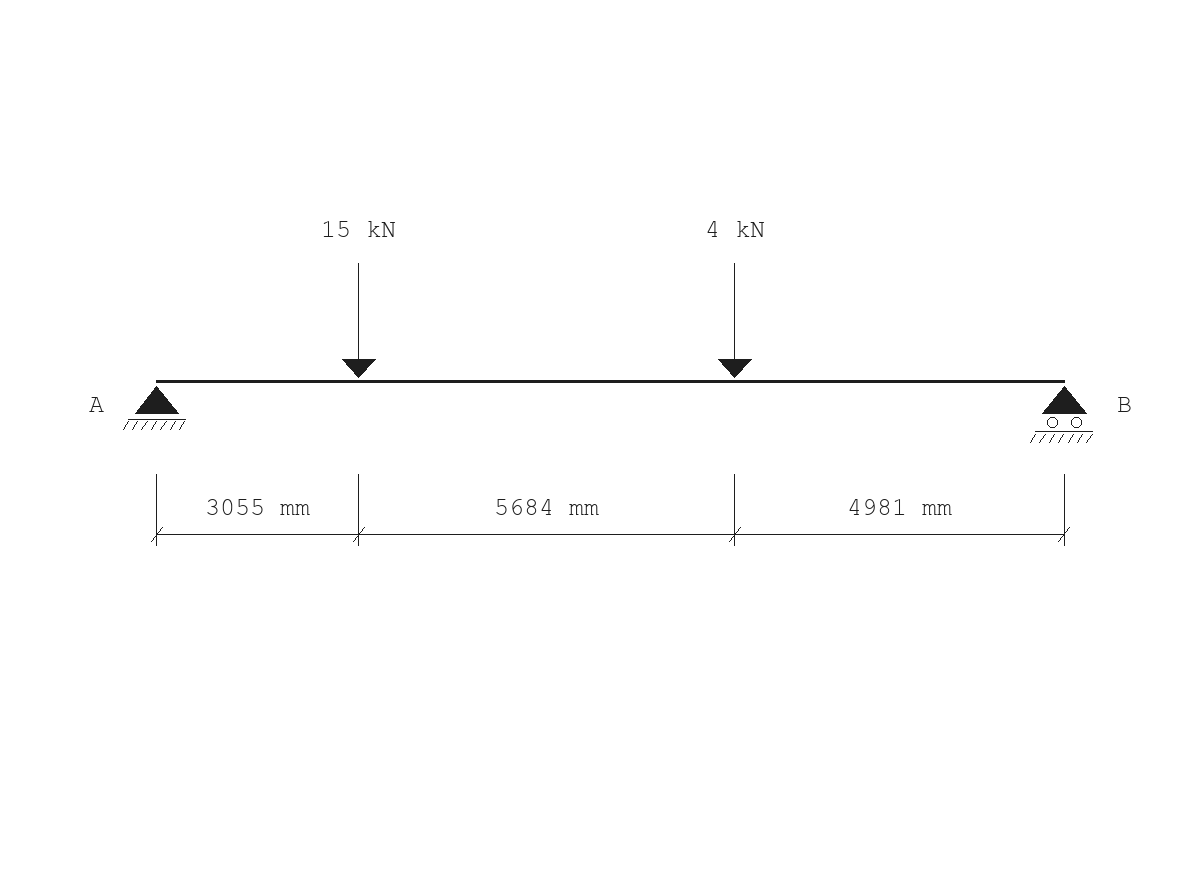pin_support: (123, 386, 186, 430)
point_load: (342, 263, 376, 378), (718, 263, 752, 378)
roller_support: (1030, 386, 1093, 443)
